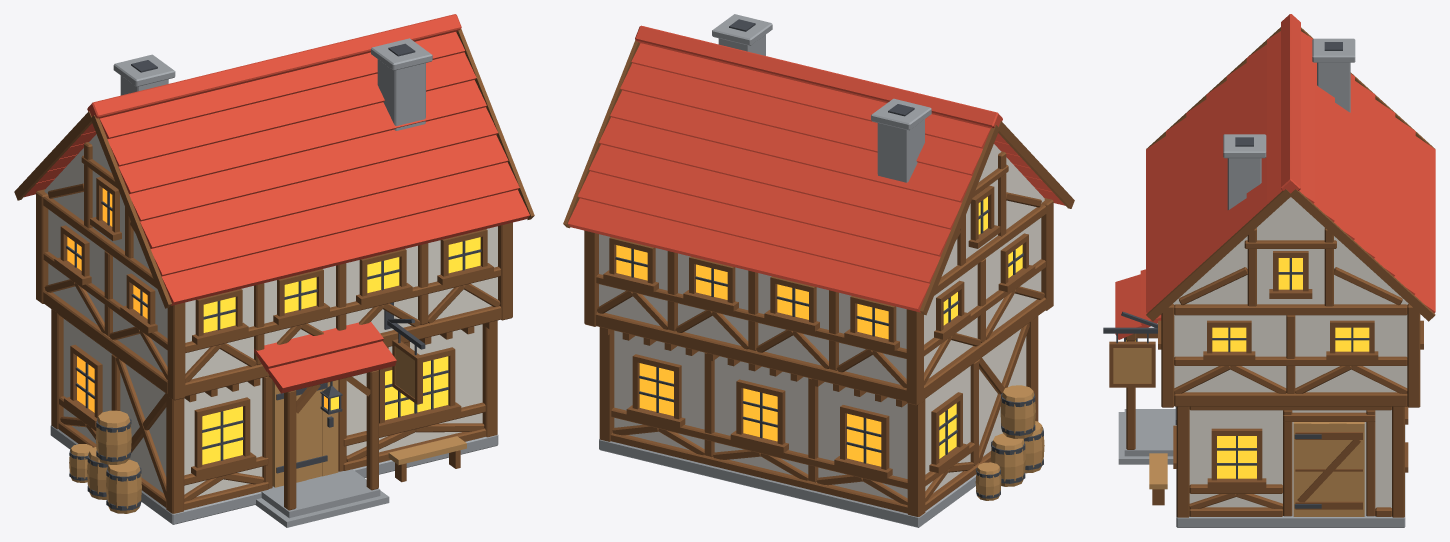
File: half-timbered-tavern.glb
The picture shows the model from 3 angles, left to right: view 1: azimuth 30°, elevation 25°; view 2: azimuth 150°, elevation 25°; view 3: azimuth 270°, elevation 25°; orthographic projection. The views are drawn at different scales.
Visible parts, largest first — view 1: Tavern_Roof, Tavern_Timber, Tavern_Plaster, Tavern_WindowGlow, Tavern_Stone, Tavern_Chimneys, Barrels, Door, Tavern_Leading, Sign, Bench; view 2: Tavern_Roof, Tavern_Timber, Tavern_Plaster, Tavern_WindowGlow, Tavern_Chimneys, Barrels, Tavern_Stone, Tavern_Leading; view 3: Tavern_Roof, Tavern_Timber, Tavern_Plaster, StableDoor, Tavern_Stone, Tavern_Chimneys, Tavern_WindowGlow, Sign, Tavern_Leading, Bench.
Part boxes in pixels (<box>): Tavern_Roof: <box>24,14,529,393</box>; Tavern_Timber: <box>14,29,534,513</box>; Tavern_Plaster: <box>44,134,497,496</box>; Tavern_WindowGlow: <box>67,188,480,464</box>; Tavern_Stone: <box>50,425,498,527</box>; Tavern_Chimneys: <box>113,38,432,130</box>; Barrels: <box>69,410,141,513</box>; Door: <box>272,380,338,487</box>; Tavern_Leading: <box>66,191,481,460</box>; Sign: <box>392,333,422,404</box>; Bench: <box>388,436,466,482</box>; Tavern_Roof: <box>568,25,1065,312</box>; Tavern_Timber: <box>563,40,1074,516</box>; Tavern_Plaster: <box>599,144,1044,499</box>; Tavern_WindowGlow: <box>616,196,1022,466</box>; Tavern_Chimneys: <box>712,14,931,182</box>; Barrels: <box>975,385,1044,500</box>; Tavern_Stone: <box>599,439,976,527</box>; Tavern_Leading: <box>615,200,1023,463</box>; Tavern_Roof: <box>1115,14,1435,339</box>; Tavern_Timber: <box>1125,27,1435,517</box>; Tavern_Plaster: <box>1173,197,1408,514</box>; StableDoor: <box>1293,422,1364,516</box>; Tavern_Stone: <box>1118,409,1405,527</box>; Tavern_Chimneys: <box>1223,38,1355,209</box>; Tavern_WindowGlow: <box>1212,258,1369,478</box>; Sign: <box>1109,333,1155,387</box>; Tavern_Leading: <box>1103,258,1369,479</box>; Bench: <box>1149,453,1167,505</box>.
Bounding box in the file's own units: 25.36 × 24.51 × 20.54.
